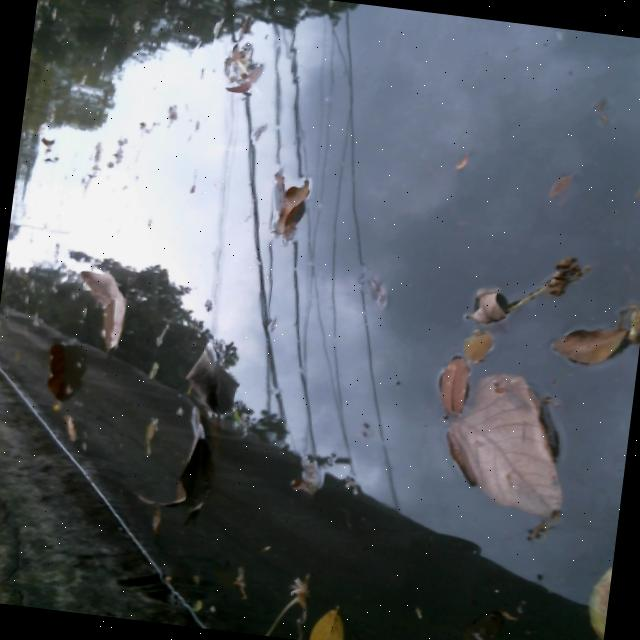Big-leaf: (434, 373, 578, 523), (140, 392, 218, 526), (63, 260, 131, 355), (170, 338, 233, 418), (35, 336, 93, 407)
Small-leaf: (542, 315, 630, 373), (571, 559, 613, 640), (216, 36, 264, 105), (268, 174, 309, 243), (301, 600, 357, 640), (289, 452, 329, 501), (359, 271, 397, 310), (540, 168, 576, 204), (225, 564, 255, 603), (55, 410, 84, 444), (444, 147, 473, 176), (628, 175, 640, 202)
